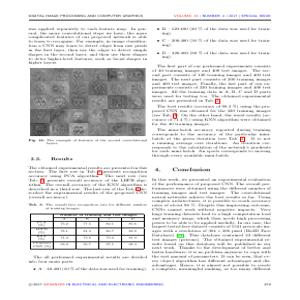image: (28, 66, 149, 139)
table: (27, 210, 150, 253)
text: (152, 25, 273, 274), (25, 155, 149, 209), (25, 25, 150, 65), (28, 254, 150, 274)
